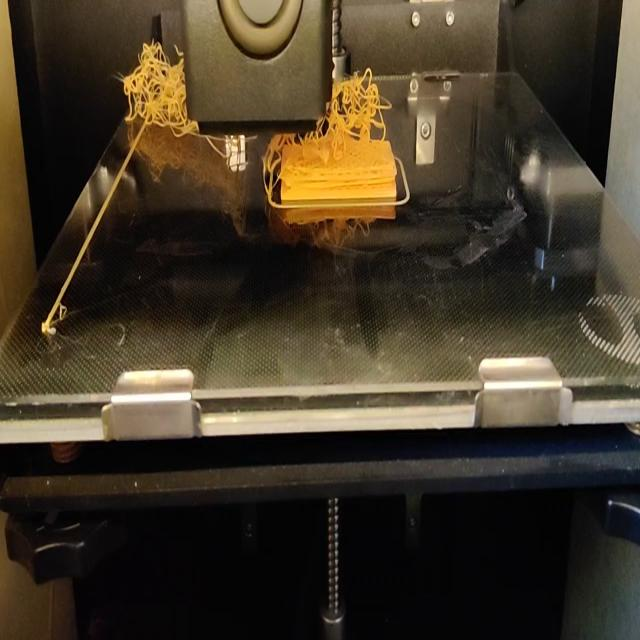spaghetti: (120, 37, 184, 136), (336, 67, 388, 145), (266, 129, 332, 165)
